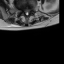CCS_normal: (26, 7, 28, 17)
LFS_stenosis: (30, 6, 32, 12)
LLS_normal: (28, 7, 30, 15)
RFS_severe_stenosis: (22, 7, 24, 13)
RLS_normal: (24, 7, 26, 15)
